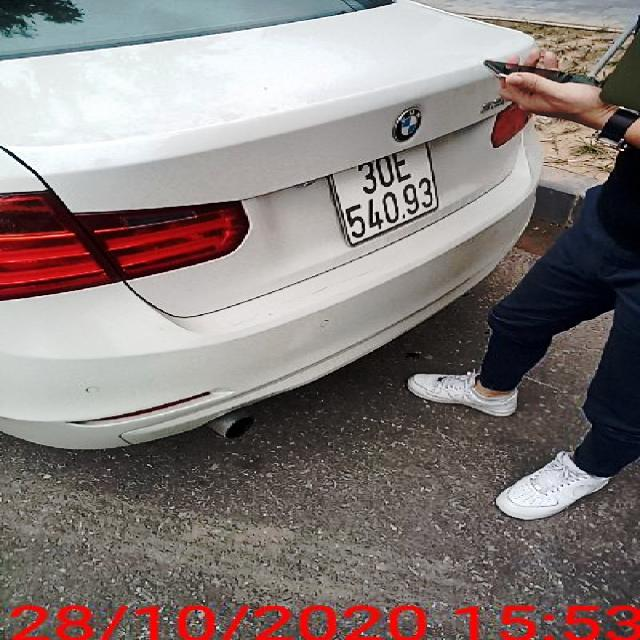license_plate: (332, 142, 441, 248)
